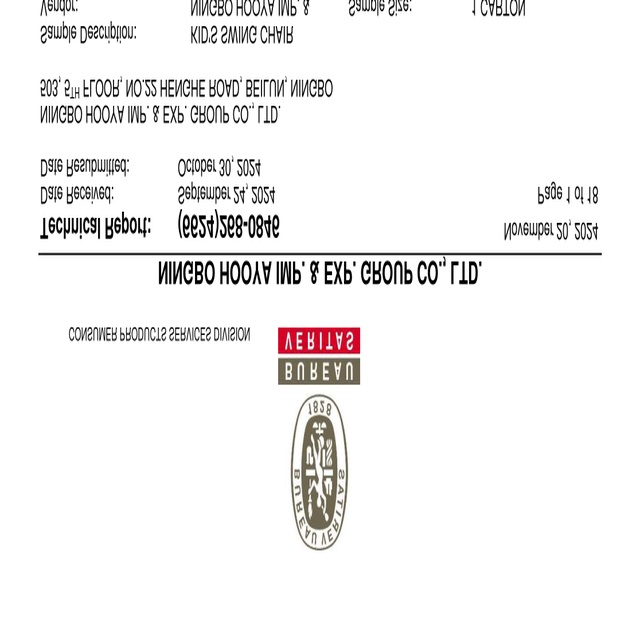bureau_veritas: (274, 325, 365, 552)
